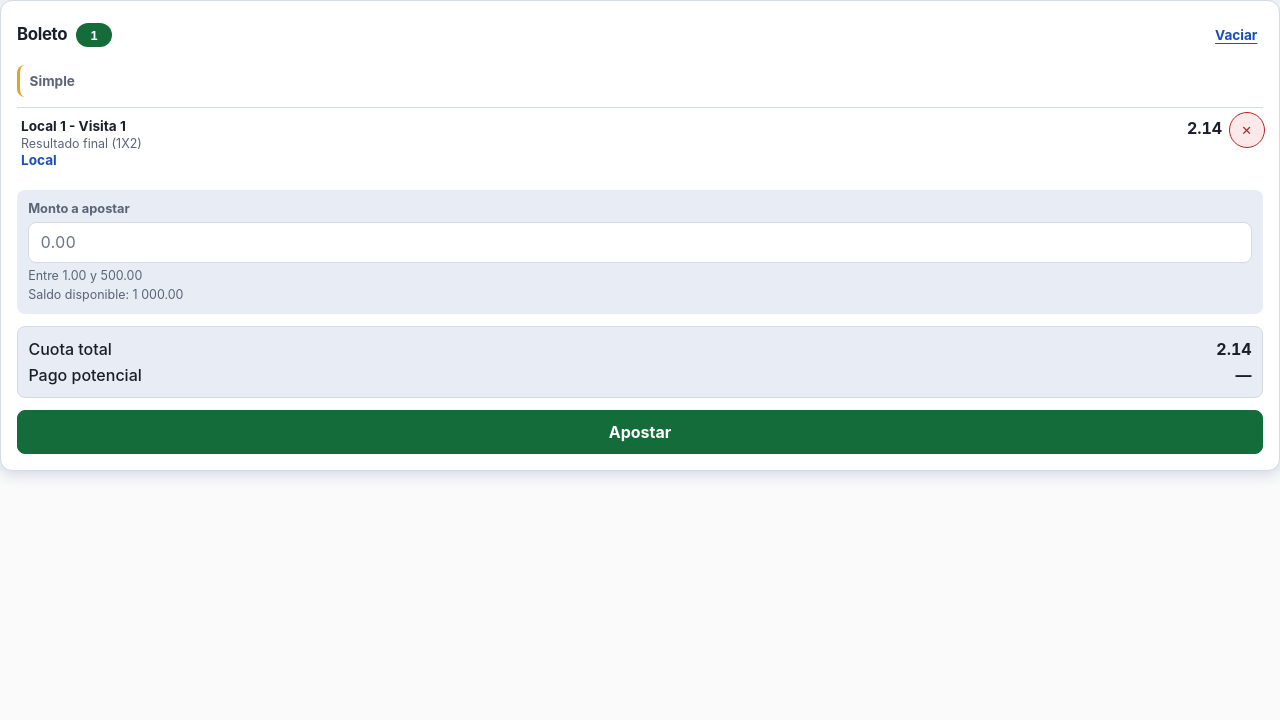
Test case: BetSlipComponent › error de validación: muestra los errores por campo
The width and height of the screenshot is (1280, 720).
Type "10" into the field with id "stake".
click(640, 242); type("10")  # box [28,222,1252,263]
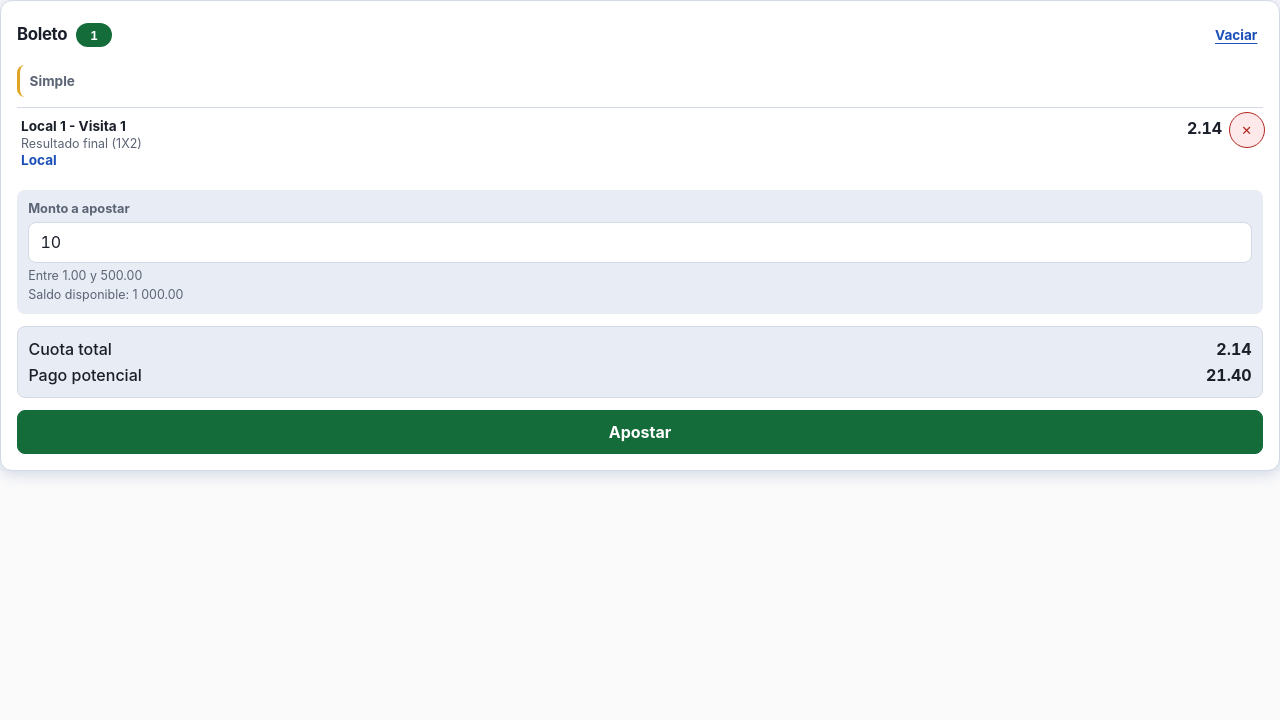
Click the button "Apostar".
click(640, 432)  # box [17,410,1263,454]
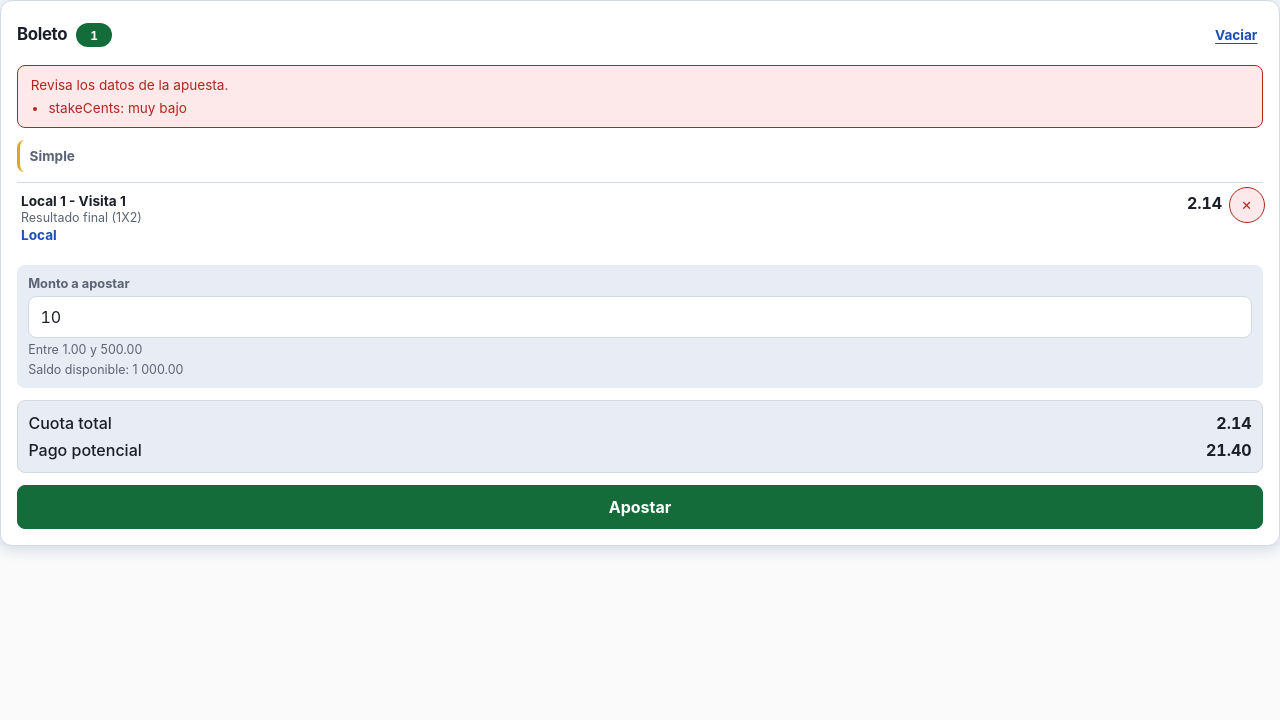
Expected: the text "stakeCents: muy bajo" is shown, [48,100,187,116]
